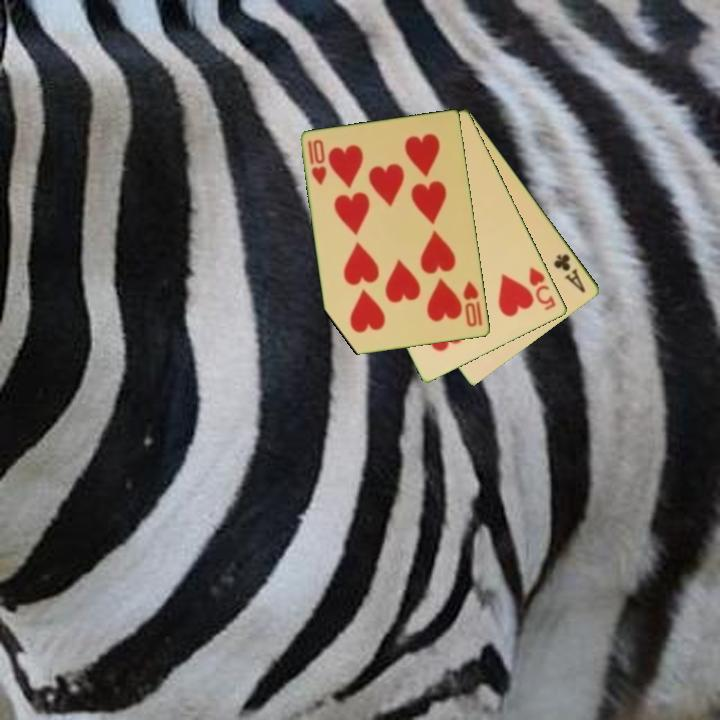10h: (304, 136, 330, 189), (460, 277, 485, 330)
5h: (526, 264, 559, 313)
Ac: (550, 250, 589, 296)
